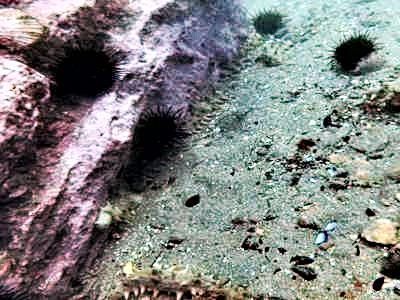urchin: (55, 38, 124, 98), (128, 103, 186, 157), (327, 26, 373, 69), (250, 7, 286, 33)
